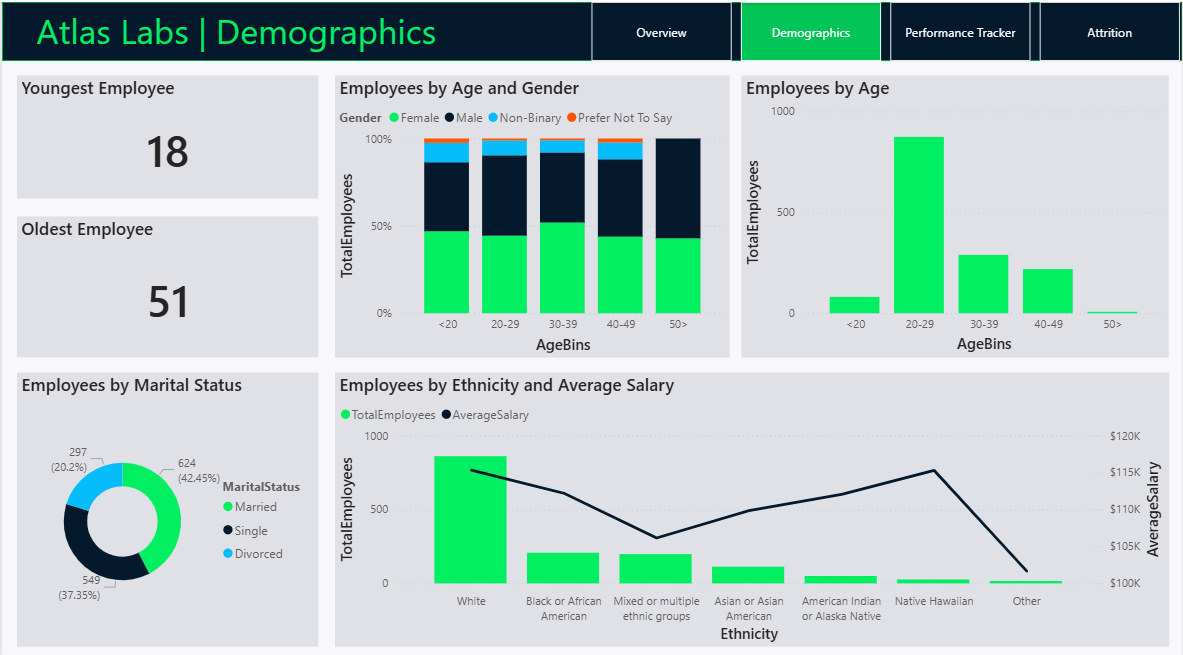

What the dashboard file says about the page in this screenshot:
{"tool":"powerbi","page":{"name":"Demographics","canvas":[1280,720],"ordinal":1},"visuals":[{"type":"card","title":"Youngest Employee","fields":{"Values":["Min(DimEmployee.Age)"]},"box":[16.3,79.7,326.9,133.4],"z":0},{"type":"card","title":"Oldest Employee","fields":{"Values":["Max(DimEmployee.Age)"]},"box":[16.3,232.6,326.9,152.9],"z":1000},{"type":"columnChart","title":"Employees by Age","fields":{"Category":["DimEmployee.AgeBins"],"Y":["_Measures.TotalEmployees"]},"box":[801.9,79.7,463.6,305.8],"z":2000},{"type":"hundredPercentStackedColumnChart","title":"Employees by Age and Gender","fields":{"Category":["DimEmployee.AgeBins"],"Series":["DimEmployee.Gender"],"Y":["_Measures.TotalEmployees"]},"box":[361.1,79.7,427.8,305.8],"z":3000},{"type":"donutChart","title":"Employees by Marital Status","fields":{"Category":["DimEmployee.MaritalStatus"],"Y":["_Measures.TotalEmployees"]},"box":[16.3,401.8,326.9,297.7],"z":4000},{"type":"lineStackedColumnComboChart","title":"Employees by Ethnicity and Average Salary","fields":{"Category":["DimEmployee.Ethnicity"],"Y":["_Measures.TotalEmployees"],"Y2":["_Measures.AverageSalary"]},"box":[361.1,401.8,904.4,297.7],"z":5000},{"type":"shape","box":[0,0,1280,64],"z":6000},{"type":"textbox","box":[32,0,624,64],"z":7000},{"type":"pageNavigator","box":[640,0,640,64],"z":8000}]}

Visuals, with their boxes in screenshot pixels (x1, y1, x2, y2), scaled from the page's 1280x720 canvas onto the 1183x655 screenshot:
"Youngest Employee" card: box=[15, 73, 317, 194]
"Oldest Employee" card: box=[15, 212, 317, 351]
"Employees by Age" columnChart: box=[741, 73, 1170, 351]
"Employees by Age and Gender" hundredPercentStackedColumnChart: box=[334, 73, 729, 351]
"Employees by Marital Status" donutChart: box=[15, 366, 317, 636]
"Employees by Ethnicity and Average Salary" lineStackedColumnComboChart: box=[334, 366, 1170, 636]
shape: box=[0, 0, 1182, 58]
textbox: box=[30, 0, 606, 58]
pageNavigator: box=[592, 0, 1182, 58]
